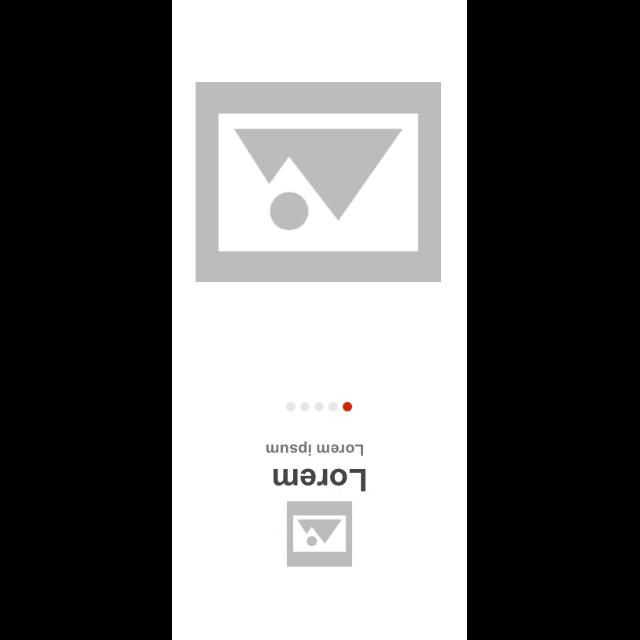image: (196, 82, 442, 282), (287, 501, 353, 567)
pageindicator: (286, 401, 352, 412)
text: (274, 468, 366, 492), (266, 440, 364, 456)
